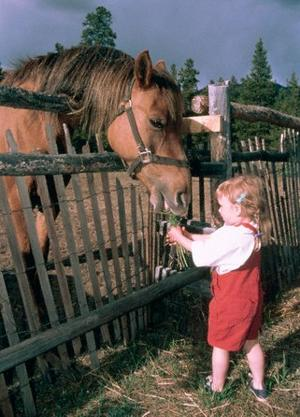person: (166, 176, 269, 405)
